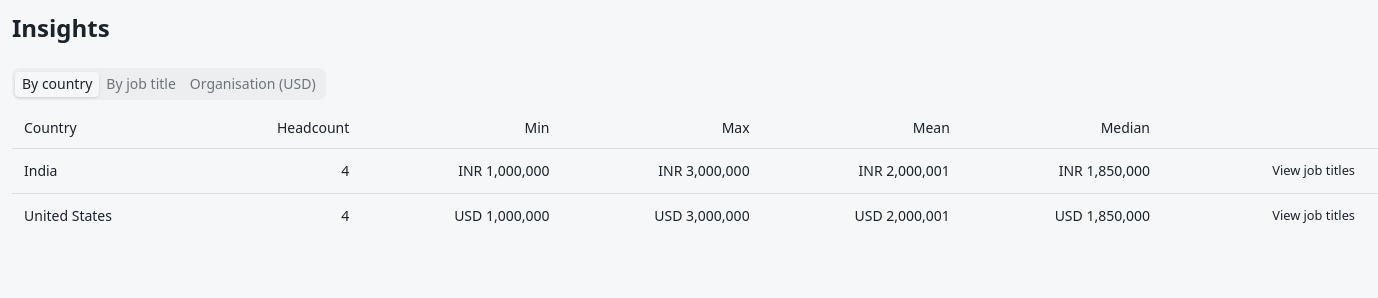
Test: InsightsPage › job-title insights › switches to another country chosen from the selector
The width and height of the screenshot is (1378, 298).
Click the button with aria-label "View job titles for India" at (1314, 170), box [1261,156,1366,184]
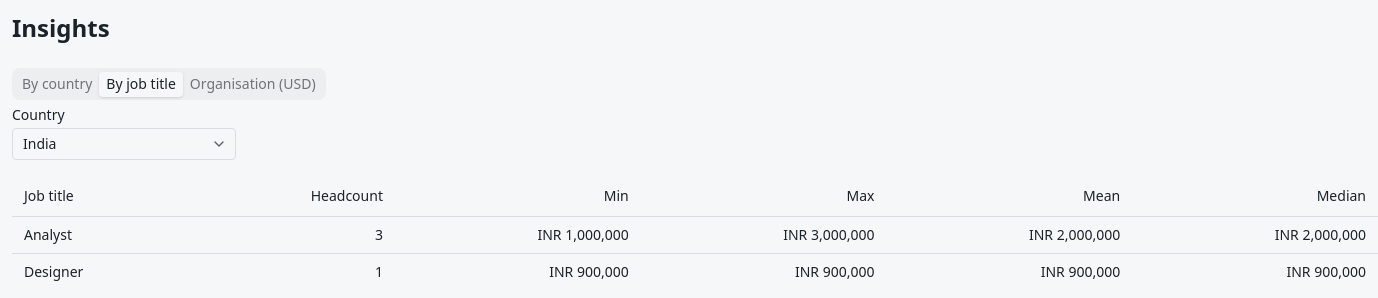
Expected: the row "Analyst" is shown, [12,216,1377,253]
Click the dropdown named "Country" at (124, 144), box [12,128,236,160]
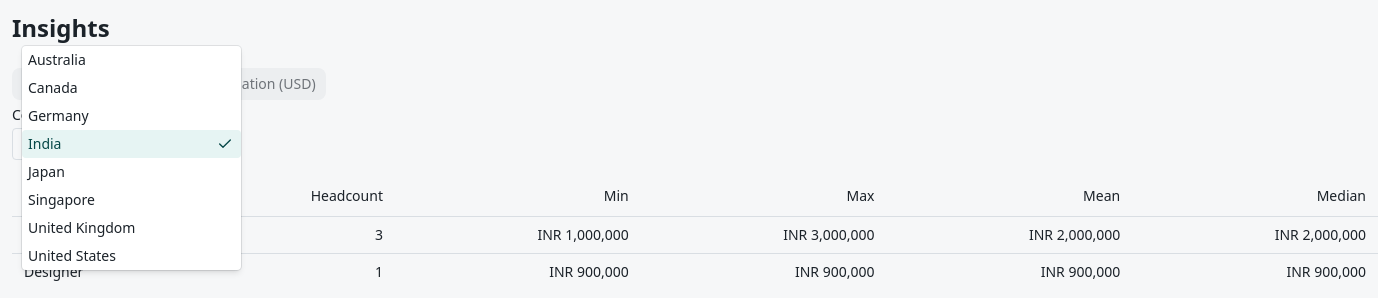
Click the option "United States" at (72, 256), box [28,246,116,265]
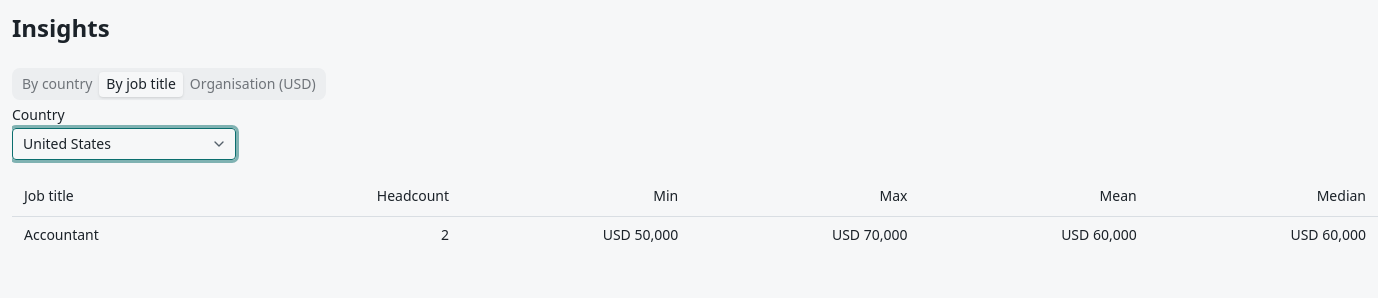
Expected: the text "USD 70,000" is shown, [690,216,920,252]
Expected: the cell "Analyst" is gone
